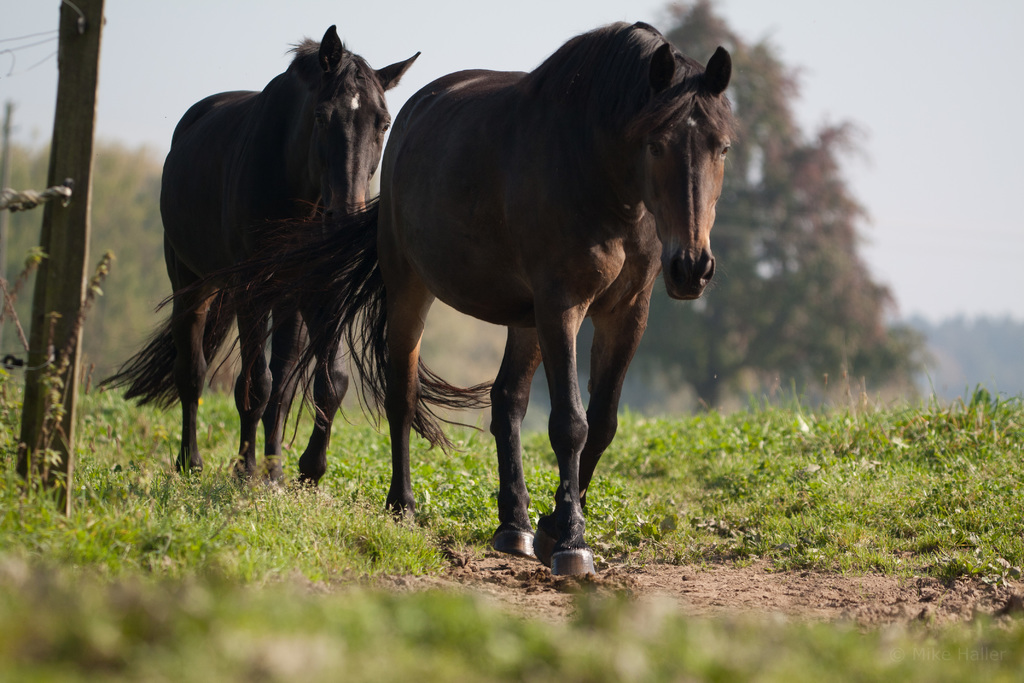horse: (151, 15, 738, 572)
